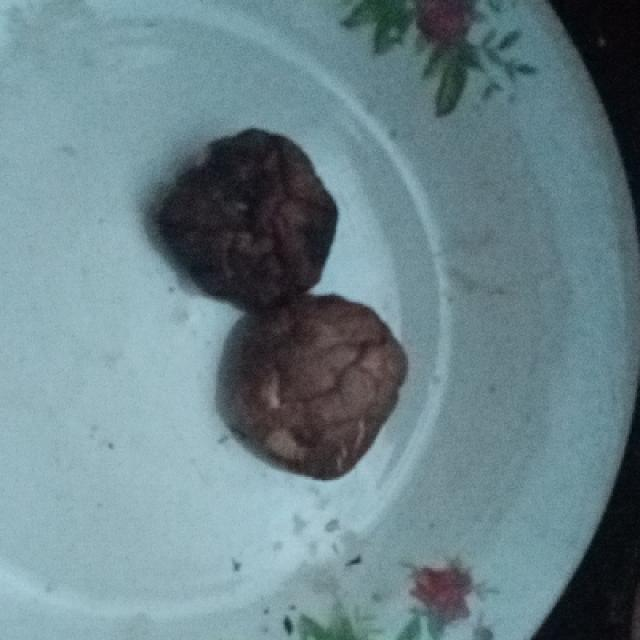Lentinus edodes: (233, 295, 412, 479), (155, 129, 340, 306)
